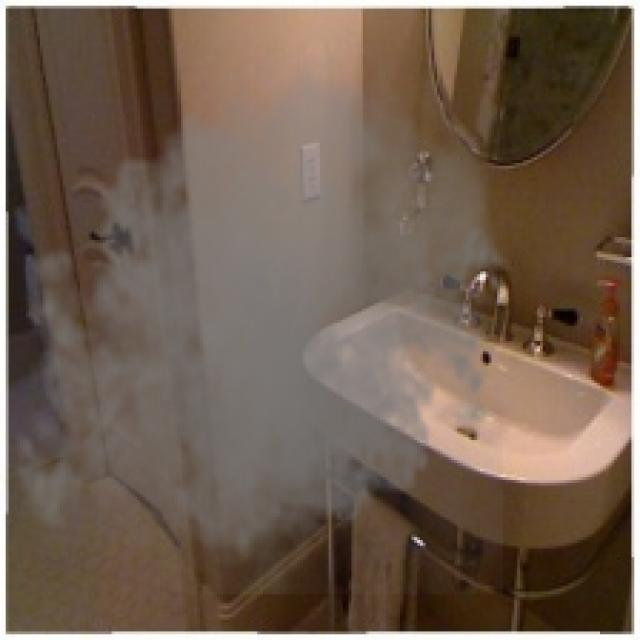smoke: (0, 31, 515, 595)
